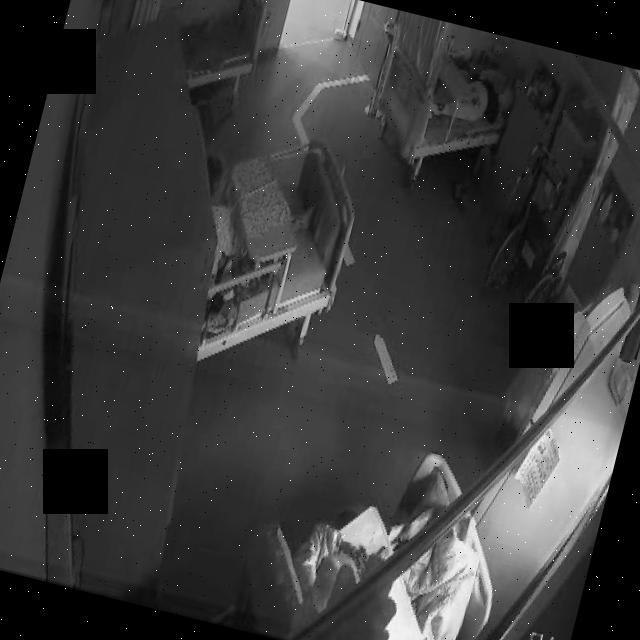bed: (239, 416, 525, 640), (193, 123, 373, 392), (359, 45, 514, 208), (181, 0, 278, 115)
